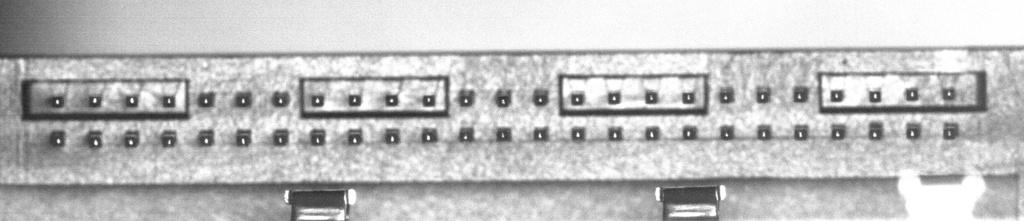pin_ok: (532, 88, 550, 106), (271, 90, 290, 107), (234, 90, 252, 107), (942, 122, 959, 140), (495, 89, 512, 107), (458, 88, 475, 106), (235, 128, 252, 146), (160, 129, 177, 147), (86, 130, 103, 148), (49, 129, 66, 147), (272, 129, 289, 146), (198, 91, 215, 108), (124, 130, 140, 148), (198, 129, 214, 146), (421, 127, 438, 143), (719, 87, 735, 103), (793, 86, 809, 102), (384, 128, 400, 144), (830, 124, 846, 140), (756, 124, 772, 140), (868, 124, 884, 140), (532, 126, 548, 141), (458, 126, 474, 141), (310, 129, 325, 145), (906, 123, 921, 139), (755, 87, 771, 102), (347, 129, 362, 145), (794, 125, 809, 140), (570, 91, 585, 106), (496, 127, 512, 141), (644, 126, 660, 140), (942, 86, 956, 101), (608, 126, 623, 140), (644, 90, 659, 104), (683, 125, 697, 140), (385, 92, 400, 106), (720, 125, 734, 140), (606, 90, 621, 104), (162, 94, 176, 108), (571, 126, 585, 140), (905, 87, 919, 101), (868, 89, 882, 103), (422, 92, 436, 106), (50, 95, 65, 108), (829, 89, 844, 102), (347, 93, 361, 106), (310, 94, 324, 107), (125, 94, 139, 107), (682, 91, 695, 104), (88, 95, 101, 107)
